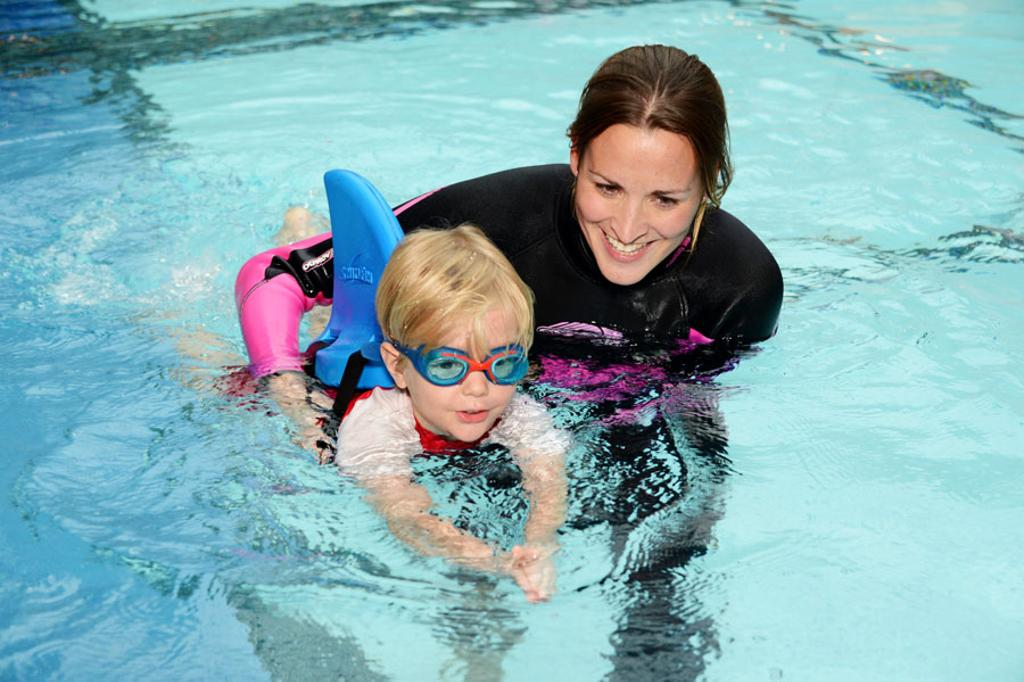face: (578, 136, 696, 284), (404, 318, 526, 446)
